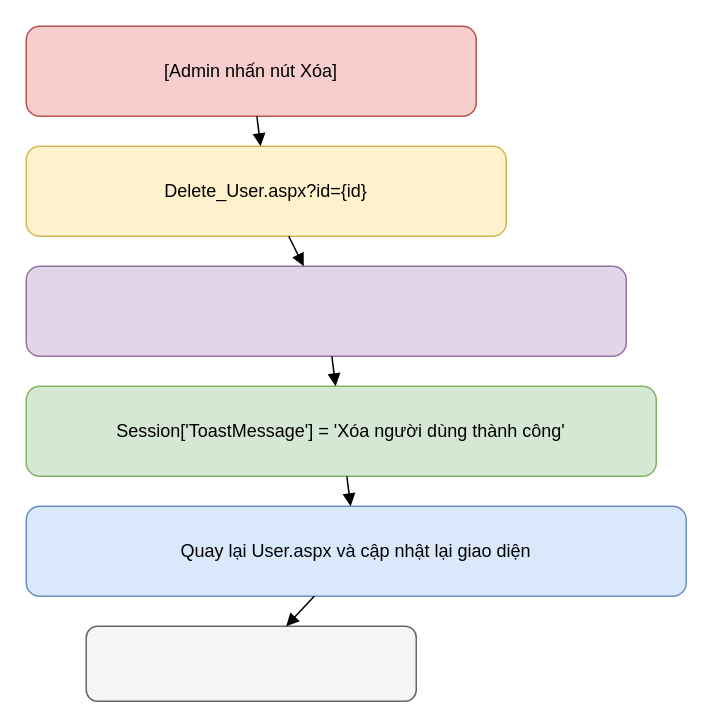
This 713x728 diagram has some shape labels left out. Here are the shapes that lost their labels. From the top down, the centre of each, then its label:
At (325,310): "Hệ thống thực thi DELETE FROM [user]".
At (250,663): "[Kết thúc luồng]".
